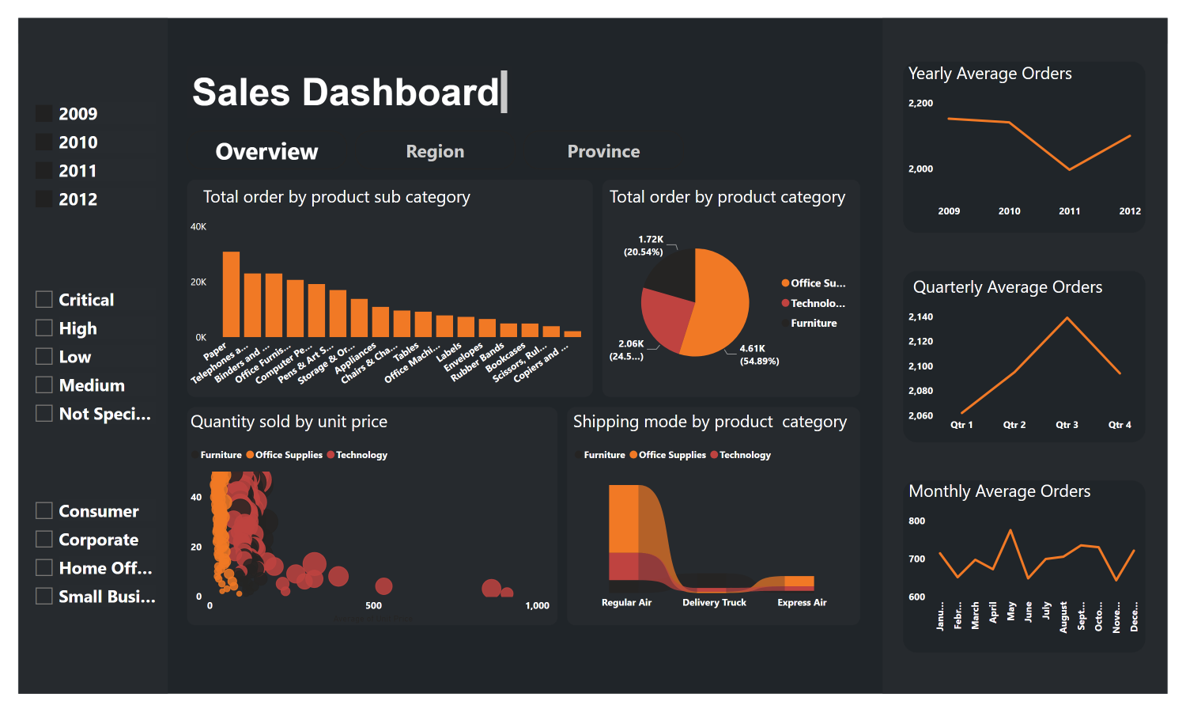

What the dashboard file says about the page in this screenshot:
{"tool":"powerbi","page":{"name":" Overview","canvas":[1500,900],"ordinal":0},"visuals":[{"type":"textbox","box":[235.7,83.7,410.6,64.6],"z":0},{"type":"pageNavigator","box":[235.7,165.4,629.3,49.4],"z":1000},{"type":"lineChart","fields":{"Category":["Table1_2.Order Date Corrected.Variation.Date Hierarchy.Quarter"],"Y":["CountNonNull(Table1_2.Order ID)"]},"box":[1144.5,385.9,304.2,169.2],"z":2000},{"type":"textbox","box":[1144,342,304,44],"z":3000},{"type":"lineChart","fields":{"Category":["Table1_2.Order Date Corrected.Variation.Date Hierarchy.Month"],"Y":["CountNonNull(Table1_2.Order ID)"]},"box":[1144.5,644.5,304.2,169.2],"z":4000},{"type":"lineChart","fields":{"Category":["Table1_2.Order Date Corrected.Variation.Date Hierarchy.Year"],"Y":["CountNonNull(Table1_2.Order ID)"]},"box":[1144.5,116,304.2,169.2],"z":5000},{"type":"textbox","box":[1144,600,304,44],"z":6000},{"type":"textbox","box":[1144,72,304,44],"z":7000},{"type":"columnChart","fields":{"Category":["Table1_2.Product Sub-Category"],"Y":["Sum(Table1_2.Order Quantity)"]},"box":[235.7,271.9,515.2,228.1],"z":8000},{"type":"pieChart","fields":{"Category":["Table1_2.Product Category"],"Y":["CountNonNull(Table1_2.Order ID)"]},"box":[766.2,271.9,319.4,220.5],"z":9000},{"type":"scatterChart","fields":{"Series":["Table1_2.Product Category"],"Y":["Table1_2.Order Quantity"],"X":["Avg(Table1_2.Unit Price)"],"Size":["Avg(Table1_2.Sales)"]},"box":[235.7,555.1,463.9,237.6],"z":10000},{"type":"ribbonChart","fields":{"Category":["Table1_2.Ship Mode"],"Y":["CountNonNull(Table1_2.Order ID)"],"Series":["Table1_2.Product Category"]},"box":[720.5,555.1,365,224.3],"z":11000},{"type":"slicer","fields":{"Values":["Table1_2.Order Date Corrected.Variation.Date Hierarchy.Year"]},"box":[32,120,170,166],"z":12000},{"type":"slicer","fields":{"Values":["Table1_2.Order Priority"]},"box":[32,355,170,198],"z":13000},{"type":"slicer","fields":{"Values":["Table1_2.Customer Segment"]},"box":[32,622,170,158],"z":14000},{"type":"textbox","box":[252,228,394,44],"z":14001},{"type":"textbox","box":[236,512,348,44],"z":14002},{"type":"textbox","box":[766,228,348,44],"z":14003},{"type":"textbox","box":[720,512,366,44],"z":14004}]}

Visuals, with their boxes in screenshot pixels (x1, y1, x2, y2), scaled from the page's 1500x900 canvas onto the 1186x720 screenshot:
textbox: box(186, 67, 511, 119)
pageNavigator: box(186, 132, 684, 172)
lineChart - Table1_2.Order Date Corrected.Variation.Date Hierarchy.Quarter x CountNonNull(Table1_2.Order ID): box(905, 309, 1145, 444)
textbox: box(905, 274, 1145, 309)
lineChart - Table1_2.Order Date Corrected.Variation.Date Hierarchy.Month x CountNonNull(Table1_2.Order ID): box(905, 516, 1145, 651)
lineChart - Table1_2.Order Date Corrected.Variation.Date Hierarchy.Year x CountNonNull(Table1_2.Order ID): box(905, 93, 1145, 228)
textbox: box(905, 480, 1145, 515)
textbox: box(905, 58, 1145, 93)
columnChart - Table1_2.Product Sub-Category x Sum(Table1_2.Order Quantity): box(186, 218, 594, 400)
pieChart - Table1_2.Product Category x CountNonNull(Table1_2.Order ID): box(606, 218, 858, 394)
scatterChart - Table1_2.Product Category x Table1_2.Order Quantity: box(186, 444, 553, 634)
ribbonChart - Table1_2.Ship Mode x CountNonNull(Table1_2.Order ID): box(570, 444, 858, 624)
slicer - Table1_2.Order Date Corrected.Variation.Date Hierarchy.Year: box(25, 96, 160, 229)
slicer - Table1_2.Order Priority: box(25, 284, 160, 442)
slicer - Table1_2.Customer Segment: box(25, 498, 160, 624)
textbox: box(199, 182, 511, 218)
textbox: box(187, 410, 462, 445)
textbox: box(606, 182, 881, 218)
textbox: box(569, 410, 859, 445)
